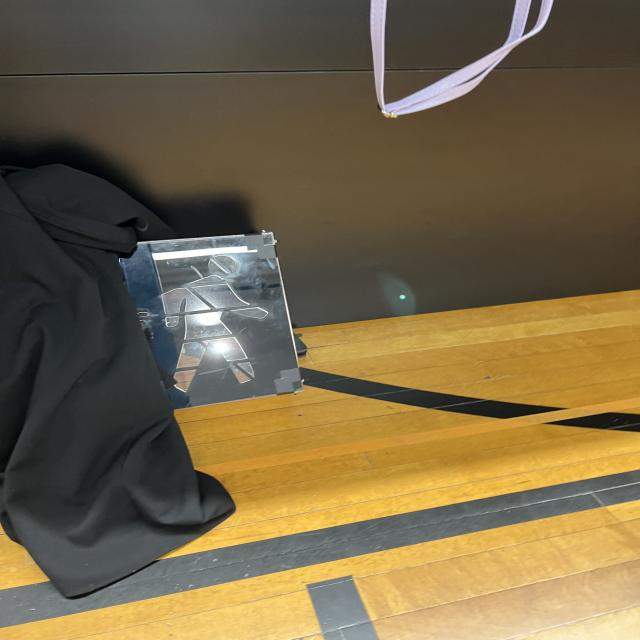go: (129, 236, 308, 409)
